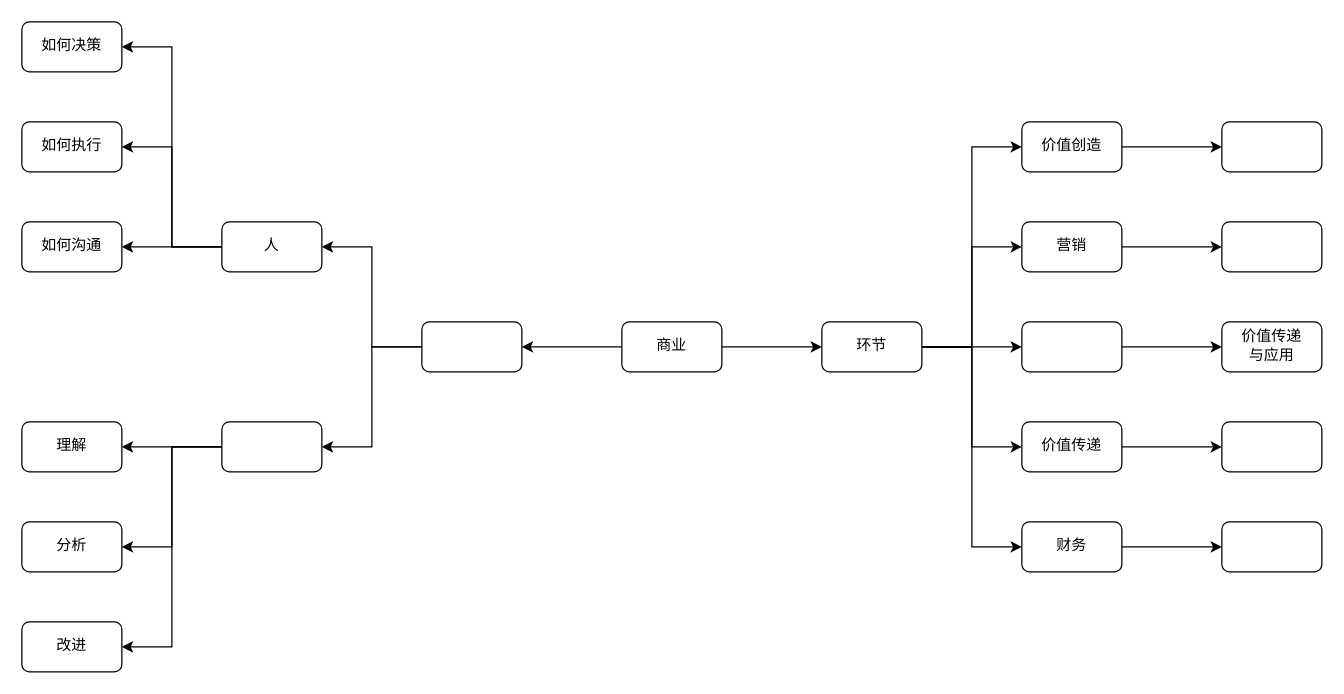
Some shapes in this 1344 by 694 pixel diagram are drawn without their labels. Here are the shapes that lost their labels. From the top down, the centre of each, then its label:
(x=1271, y=146): 市场调研
(x=1271, y=246): 市场营销
(x=471, y=346): 要素
(x=1071, y=346): 销售
(x=271, y=446): 规则
(x=1271, y=446): 用户服务
(x=1271, y=546): 财务统计
